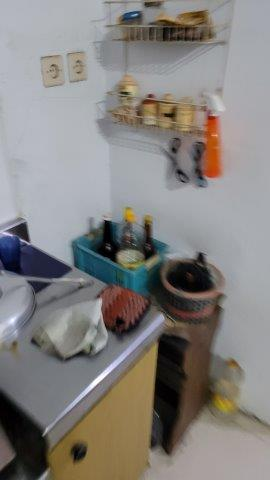botolkaca: (94, 205, 163, 257)
